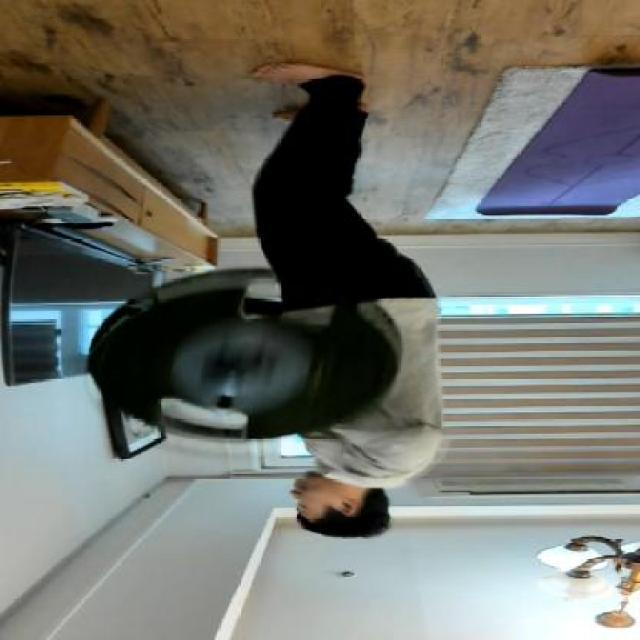Barbell: (190, 346, 284, 392)
